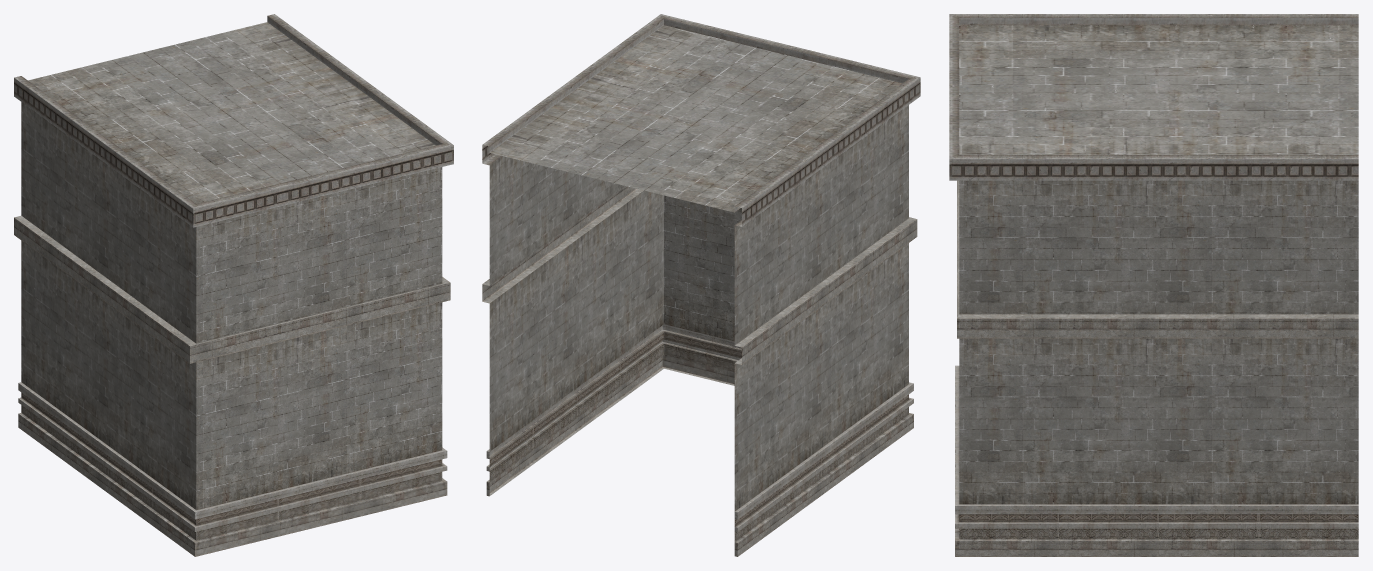
The model's file is bg_lut_lucastle_church03_sm_ksh.FBX.
3 views of the same model, side by side, from view 1: azimuth 30°, elevation 25°; view 2: azimuth 150°, elevation 25°; view 3: azimuth 270°, elevation 25° (orthographic). The views are drawn at different scales.
Parts seen in each view (by area): view 1: bg_lut_lucastle_church03_sm_ksh; view 2: bg_lut_lucastle_church03_sm_ksh; view 3: bg_lut_lucastle_church03_sm_ksh.
Boxes of the visible parts, x1,y1,x2,y2 form: bg_lut_lucastle_church03_sm_ksh: [14, 14, 453, 556]; bg_lut_lucastle_church03_sm_ksh: [482, 14, 920, 556]; bg_lut_lucastle_church03_sm_ksh: [949, 14, 1358, 556].
Bounding box in the file's own units: 846 × 1089 × 1008.
